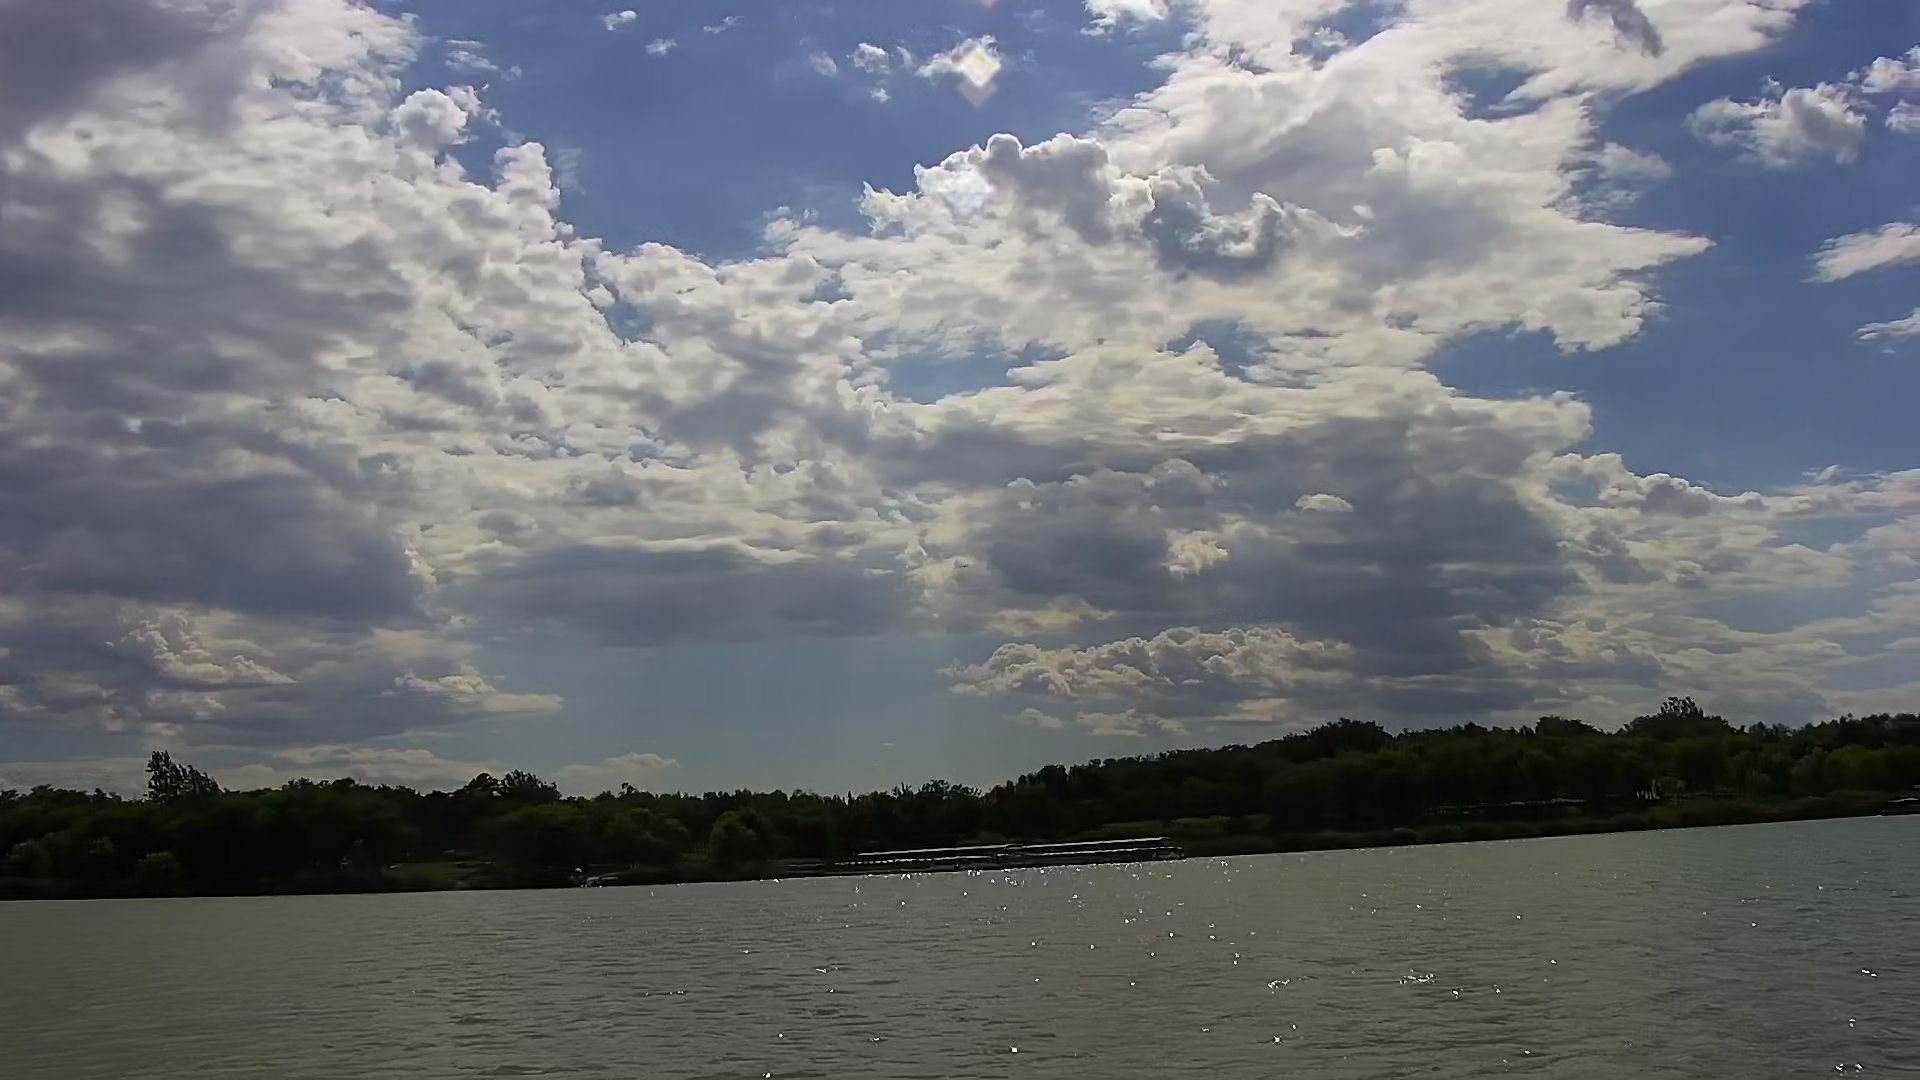harbor: (845, 829, 1180, 876)
